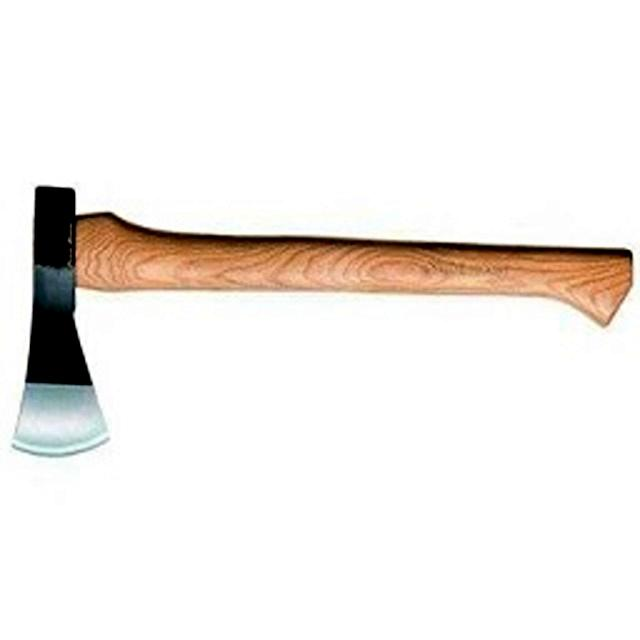ax: (5, 180, 640, 462)
